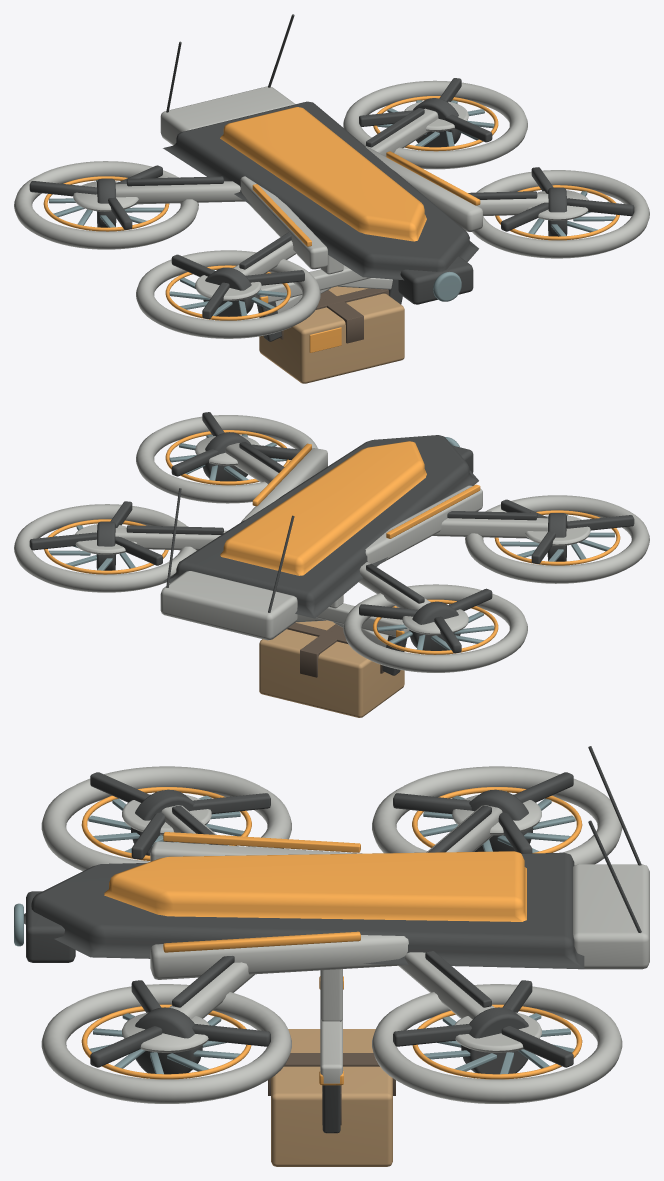
Rendered from delivery_drone_package.glb.
3 renders of one model, top to bottom at view 1: azimuth 30°, elevation 25°; view 2: azimuth 150°, elevation 25°; view 3: azimuth 270°, elevation 25°, orthographic. The views are drawn at different scales.
Parts seen in each view (by area): view 1: Drone_Antenna_-1.042; view 2: Drone_Antenna_-1.042; view 3: Drone_Antenna_-1.042.
Boxes of the visible parts, bbox=[...] form: Drone_Antenna_-1.042: bbox=[14, 14, 649, 383]; Drone_Antenna_-1.042: bbox=[14, 412, 649, 717]; Drone_Antenna_-1.042: bbox=[14, 746, 649, 1166].
Size of the model in its own units: 1.45 by 0.7338 by 1.2.
